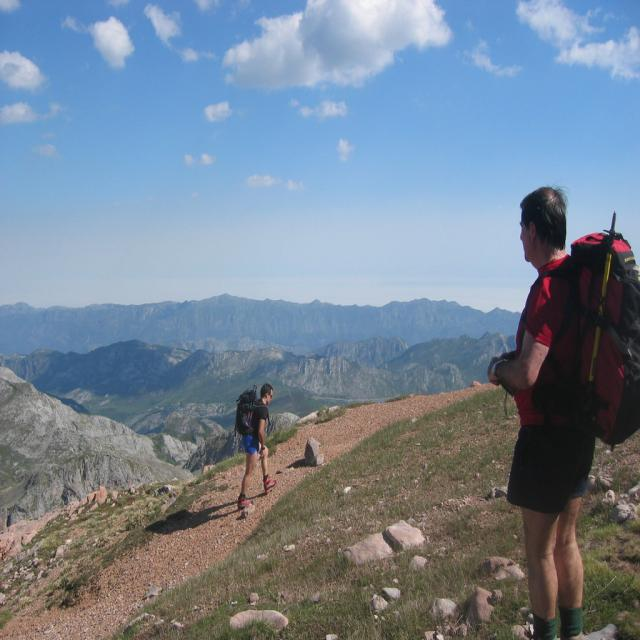backpack: (533, 224, 639, 447), (232, 389, 268, 443)
